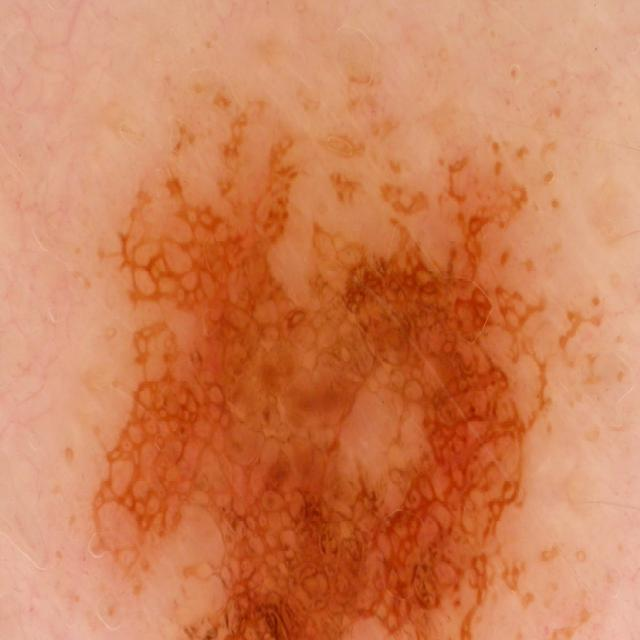Melanoma: (69, 86, 632, 640)
